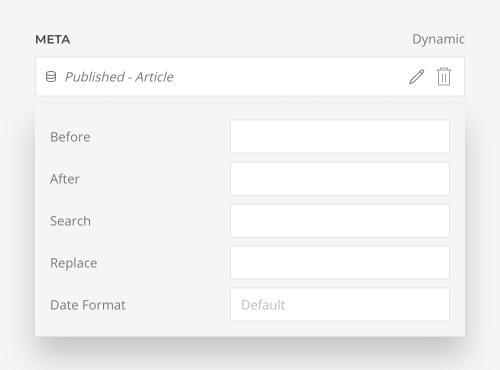icon: (437, 67, 454, 89), (409, 67, 426, 87), (45, 70, 60, 86)
input: (229, 118, 453, 157), (229, 244, 453, 281), (230, 160, 453, 197), (230, 285, 452, 322), (229, 203, 452, 239)
label: (66, 67, 181, 83), (50, 298, 131, 314), (52, 255, 99, 274), (48, 128, 93, 147), (411, 32, 468, 45), (49, 215, 94, 229), (35, 33, 74, 48), (51, 172, 82, 187)
